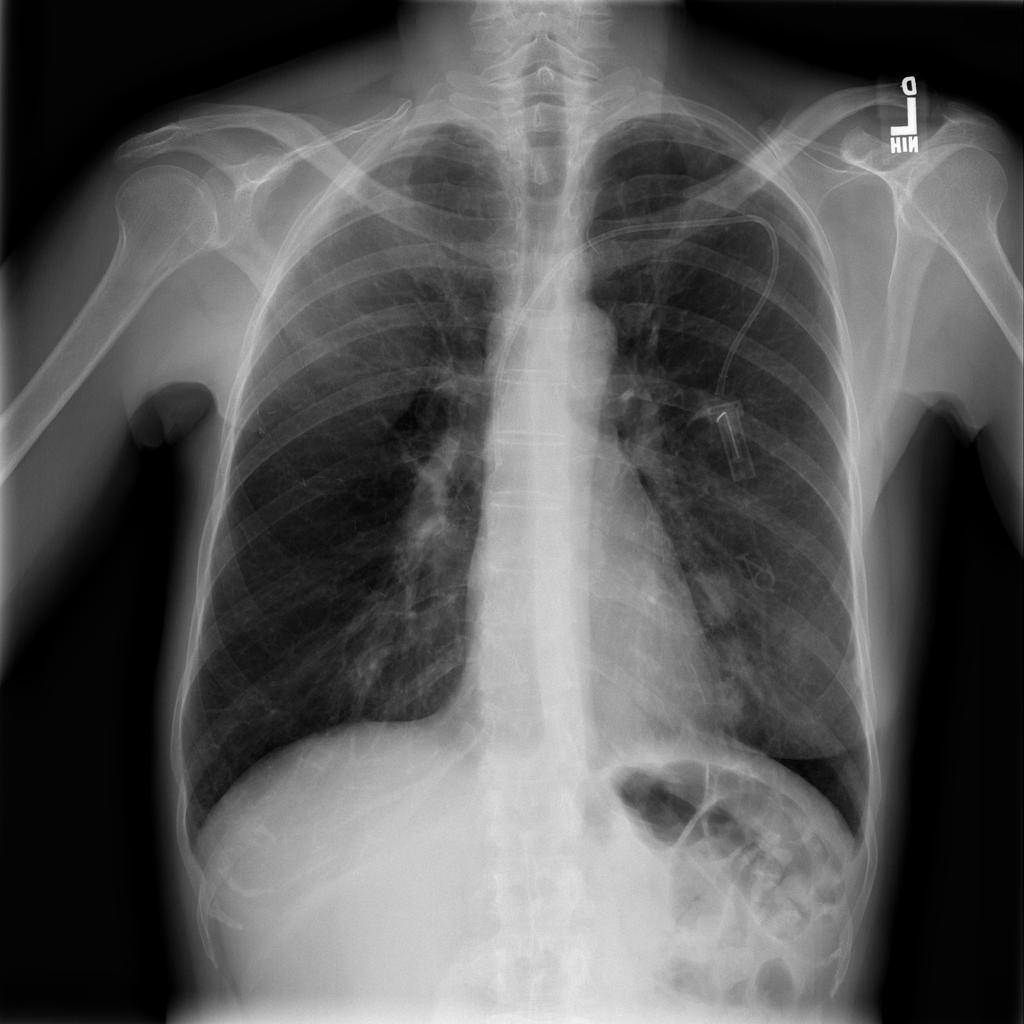nodule: (679, 549, 749, 635), (700, 641, 763, 732)
